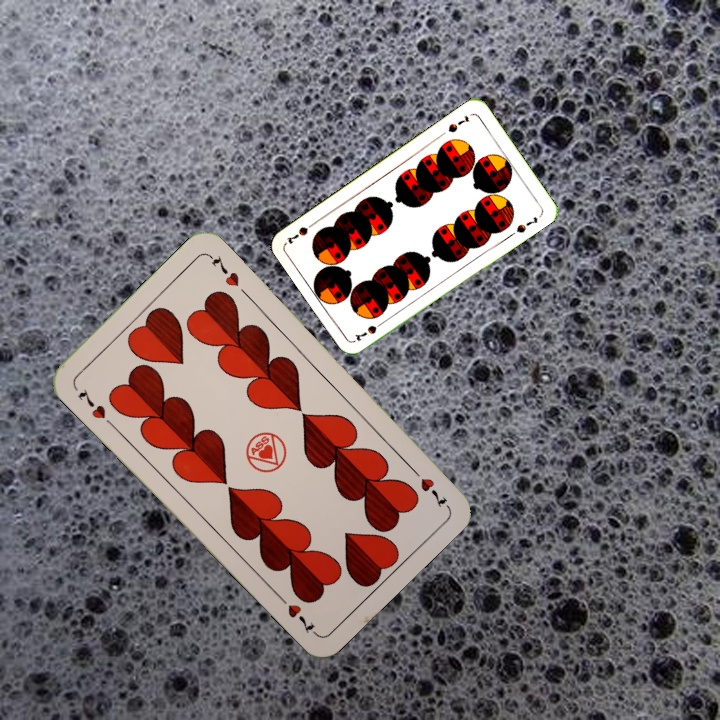H7: (405, 462, 451, 510), (73, 386, 117, 430)
S7: (351, 316, 388, 344), (444, 111, 472, 135)
